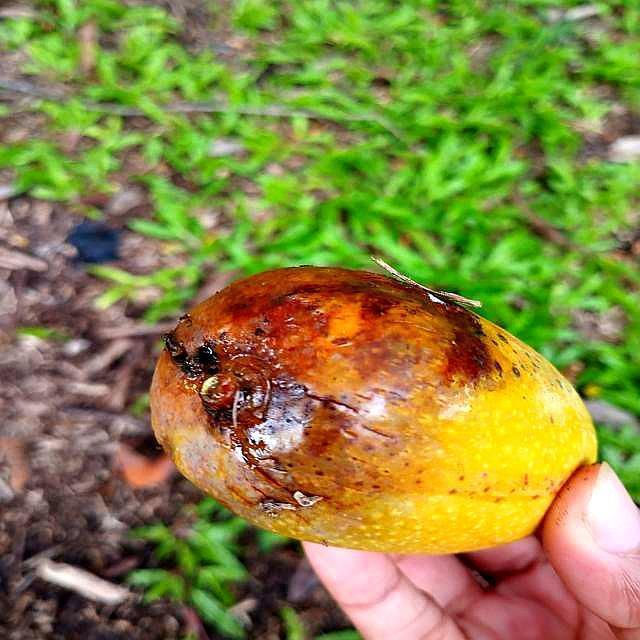Biodegradable: (145, 263, 601, 553)
